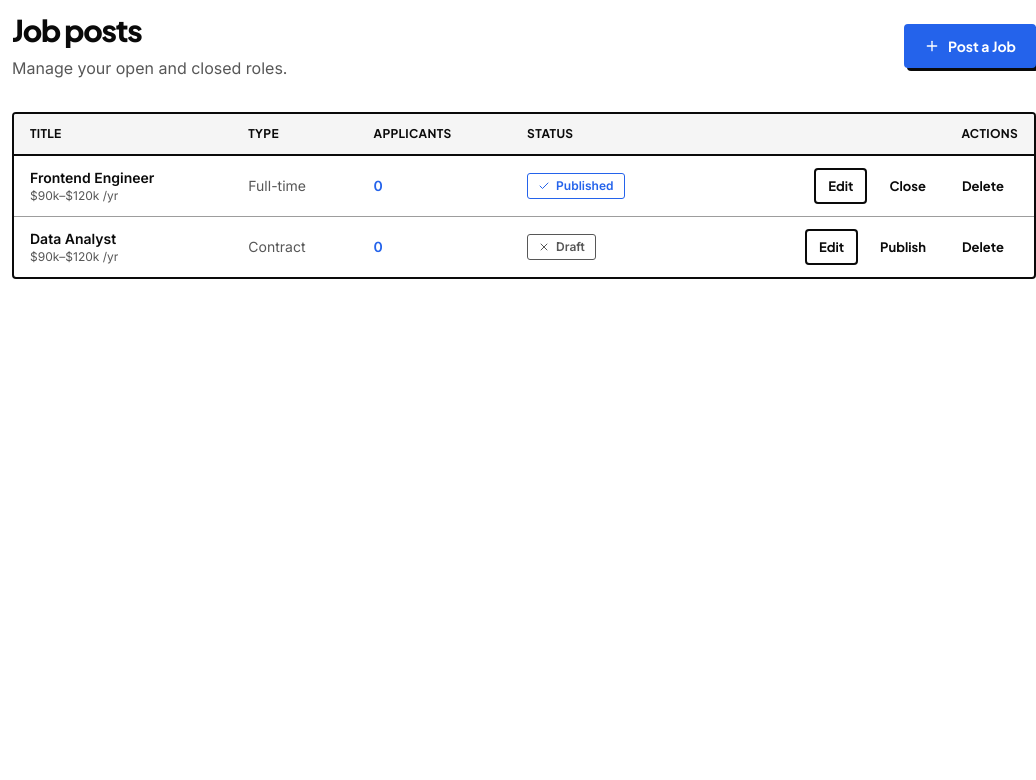
Scenario: CompanyJobs › publish-toggle PATCHes is_published and invalidates company-jobs + company-console
Click the button "Close": coordinates (908, 186) [876, 168, 940, 204]
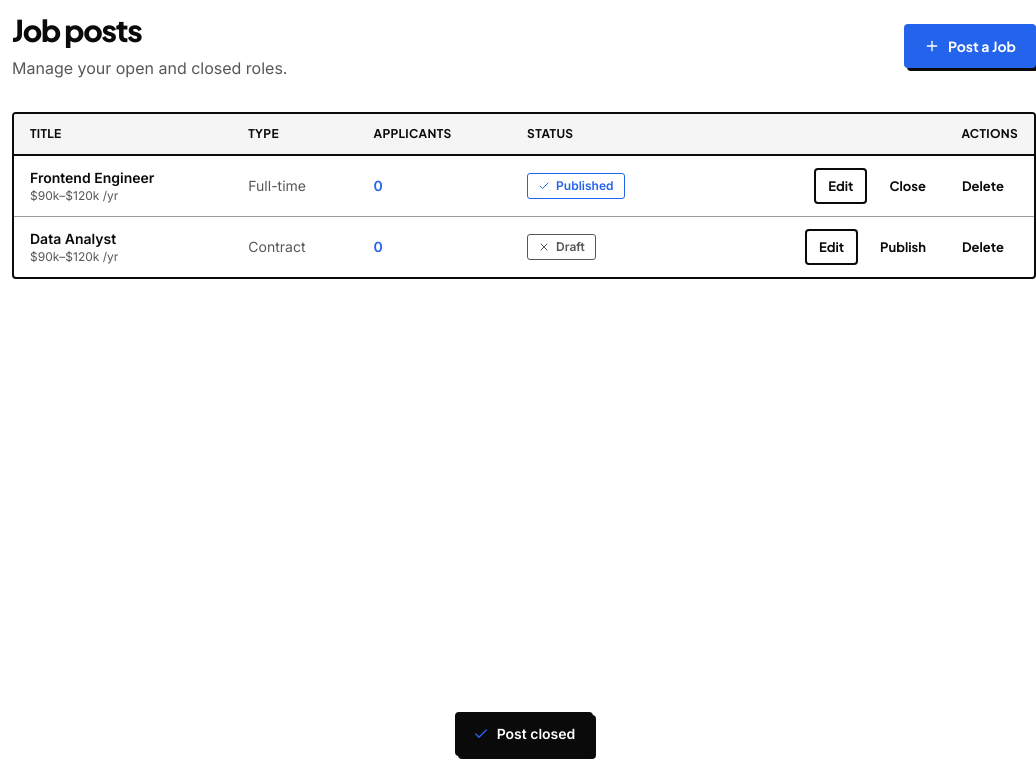
Expected: the text "Post closed" is shown, [455, 712, 593, 756]
